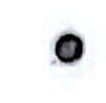cancer: (39, 15, 100, 77)
